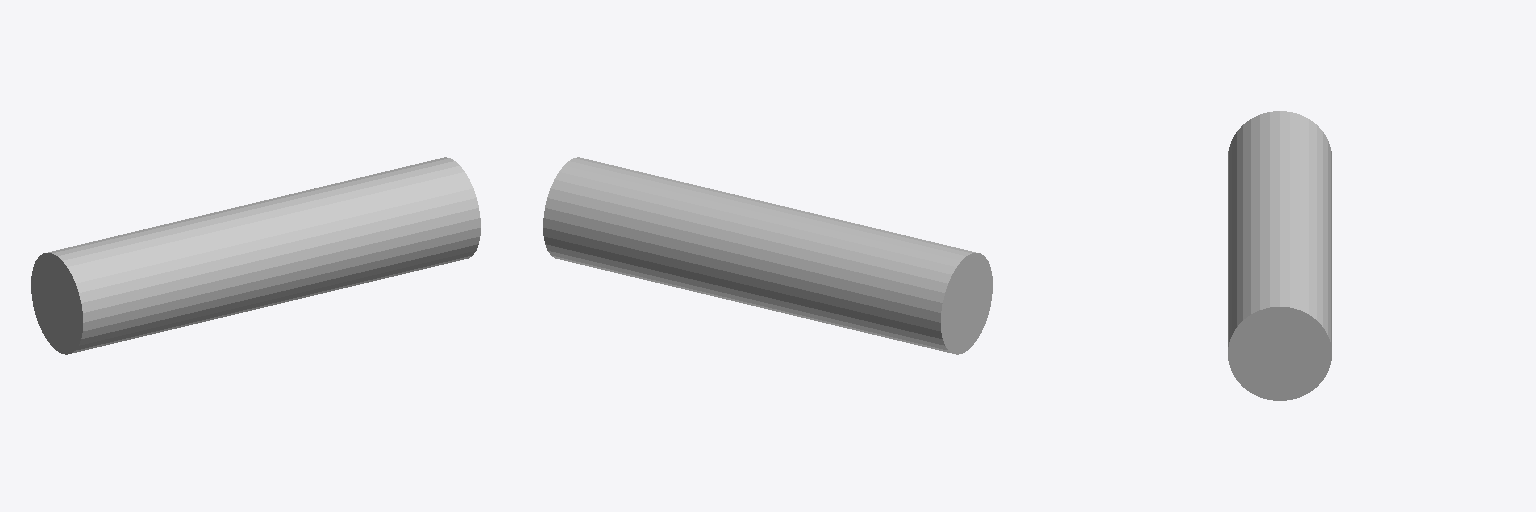
Rendered from cyl.obj.
3 renders of one model, left to right at view 1: azimuth 30°, elevation 25°; view 2: azimuth 150°, elevation 25°; view 3: azimuth 270°, elevation 25°, orthographic.
Visible parts, largest first — view 1: Cylinder; view 2: Cylinder; view 3: Cylinder.
Part boxes in pixels (x1,y1,x2,y2): Cylinder: (31, 157, 480, 354); Cylinder: (543, 157, 992, 354); Cylinder: (1228, 111, 1331, 400).
Bounding box in the file's own units: 8.8 × 2.04 × 2.